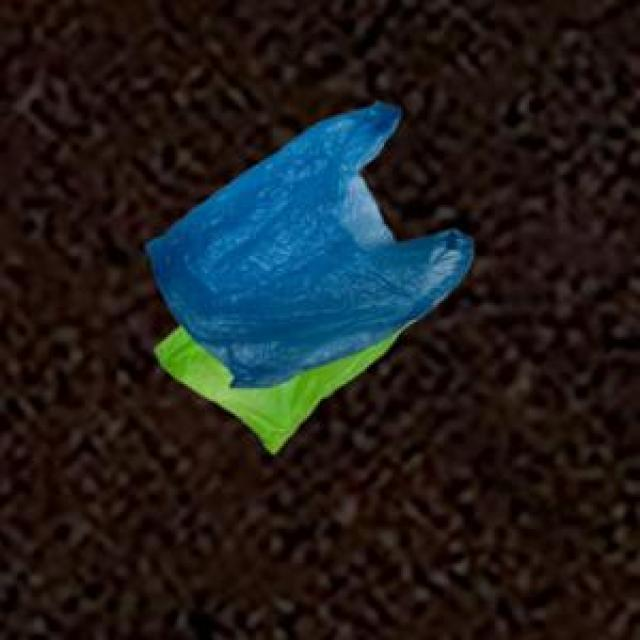waste: (148, 102, 474, 453)
